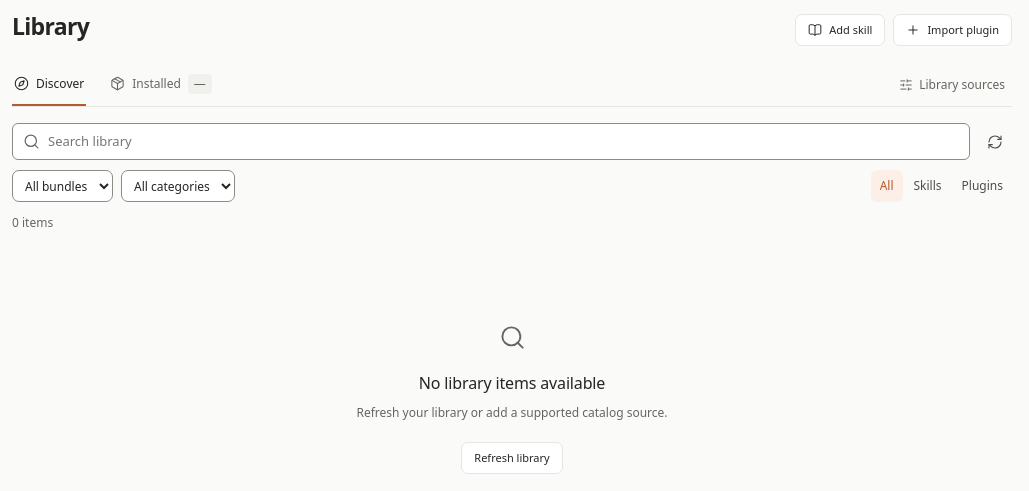
Test: Library current loading and error copy › shows an Installed read failure without presenting an empty-collection invitation
The width and height of the screenshot is (1029, 491).
Step 1. Click the button "Installed —" → [161, 85], box [108, 64, 214, 106]
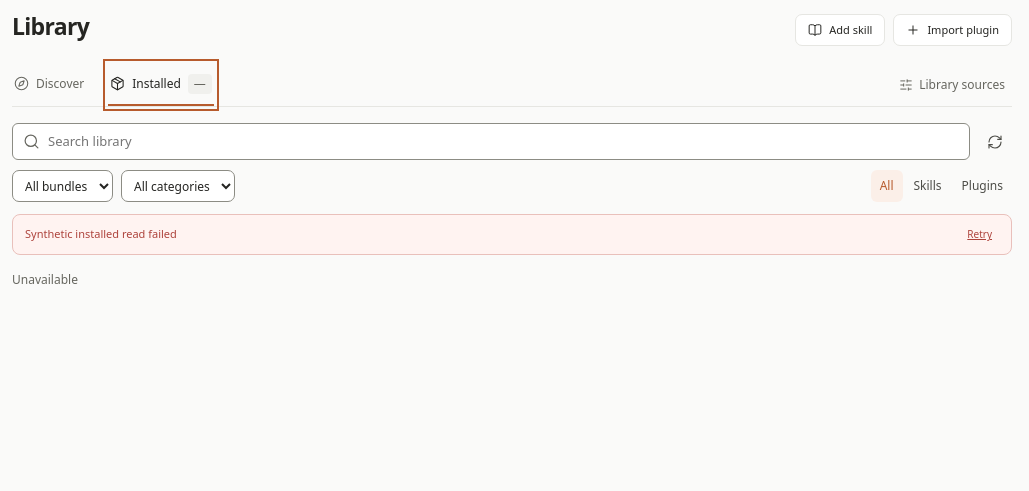
Check: the message "Synthetic installed read failed Retry" is shown, box [12, 214, 1012, 255]
